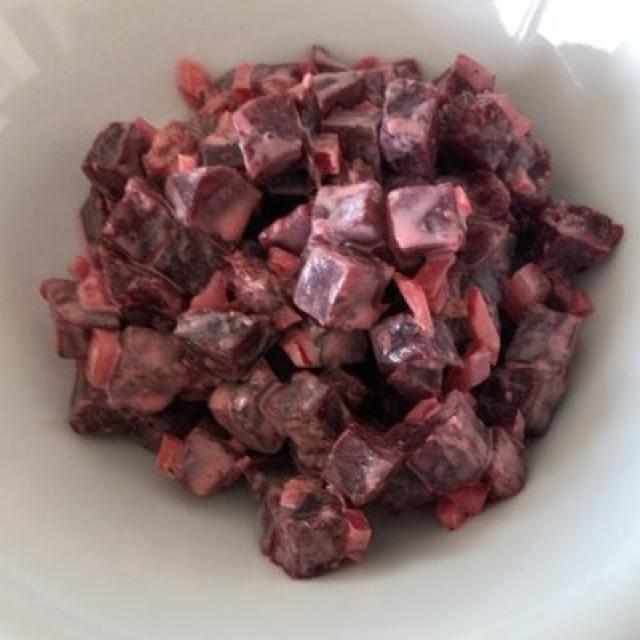beetroot-steamed-without-addition-of-salt: (49, 60, 606, 570)
